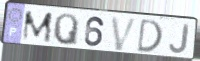6: (84, 15, 106, 49)
D: (135, 18, 164, 54)
J: (167, 24, 190, 55)
M: (20, 11, 54, 44)
Q: (52, 12, 80, 47)
V: (109, 16, 139, 52)
